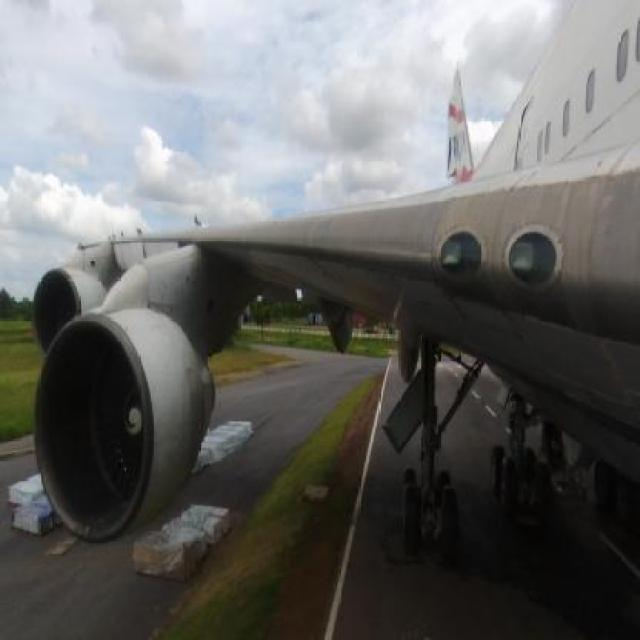Scartch: (326, 259, 434, 312)
